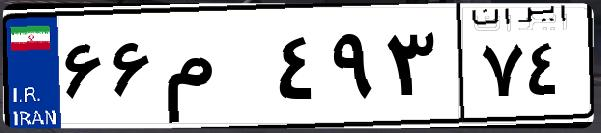3: (385, 28, 445, 110)
4: (270, 28, 330, 110), (525, 38, 570, 115)
6: (57, 26, 110, 100), (110, 28, 158, 98)
7: (475, 38, 525, 113)
9: (330, 28, 385, 110)
م: (158, 20, 270, 120)
